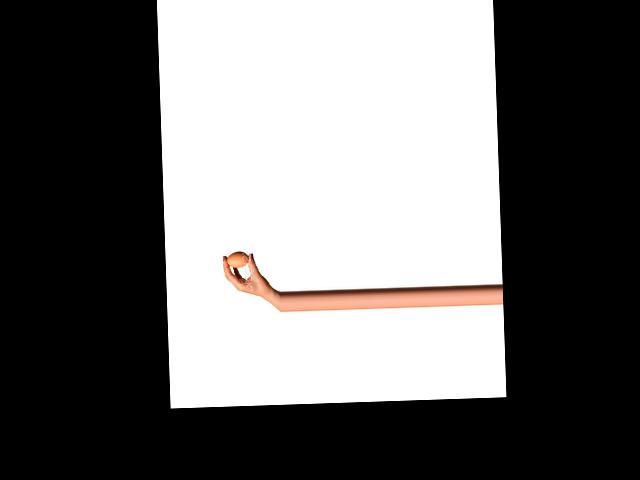egg: (227, 252, 249, 267)
